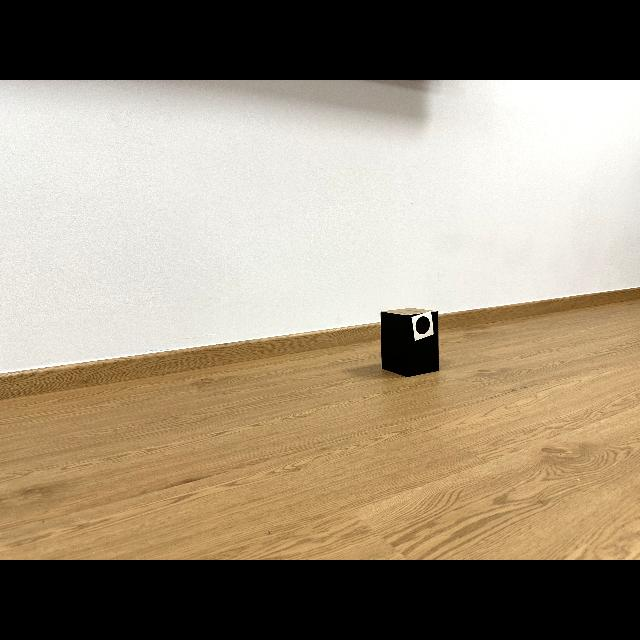CIRCLE: (416, 316, 430, 335)
